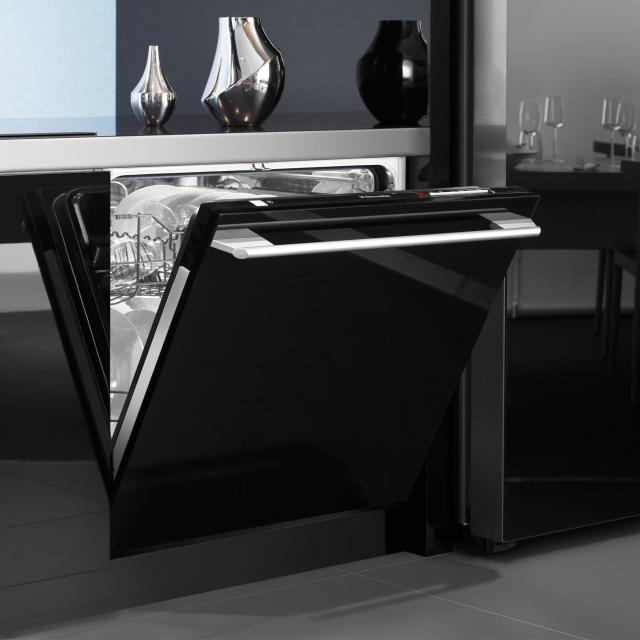dishwasher: (98, 146, 545, 588)
